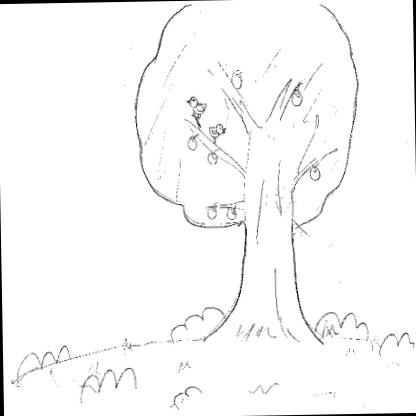apple: (230, 69, 244, 92), (289, 88, 303, 110), (186, 132, 198, 152), (206, 149, 218, 168), (204, 206, 219, 221), (225, 207, 238, 221), (310, 165, 320, 182)
bird: (183, 90, 206, 126), (207, 116, 227, 140)
branch_line: (178, 45, 325, 206)
crown_cloud: (130, 0, 363, 231)
root_none: (188, 312, 346, 371)
trunk_bark: (234, 239, 302, 306)
